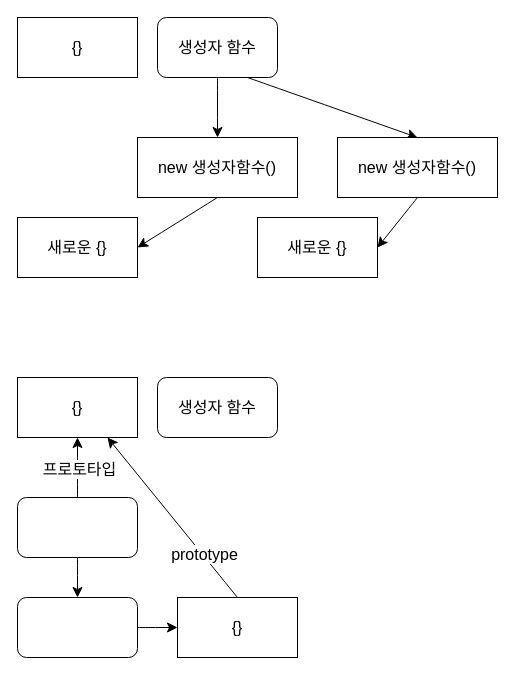
The diagram is 515 pixels wide and 675 high, and some of its shapes have lost their labels. Each missing label, with the centre of its shape:
new 새로운 생성자 함수(): point (77, 627)
새로운 생성자 함수: point (77, 527)
